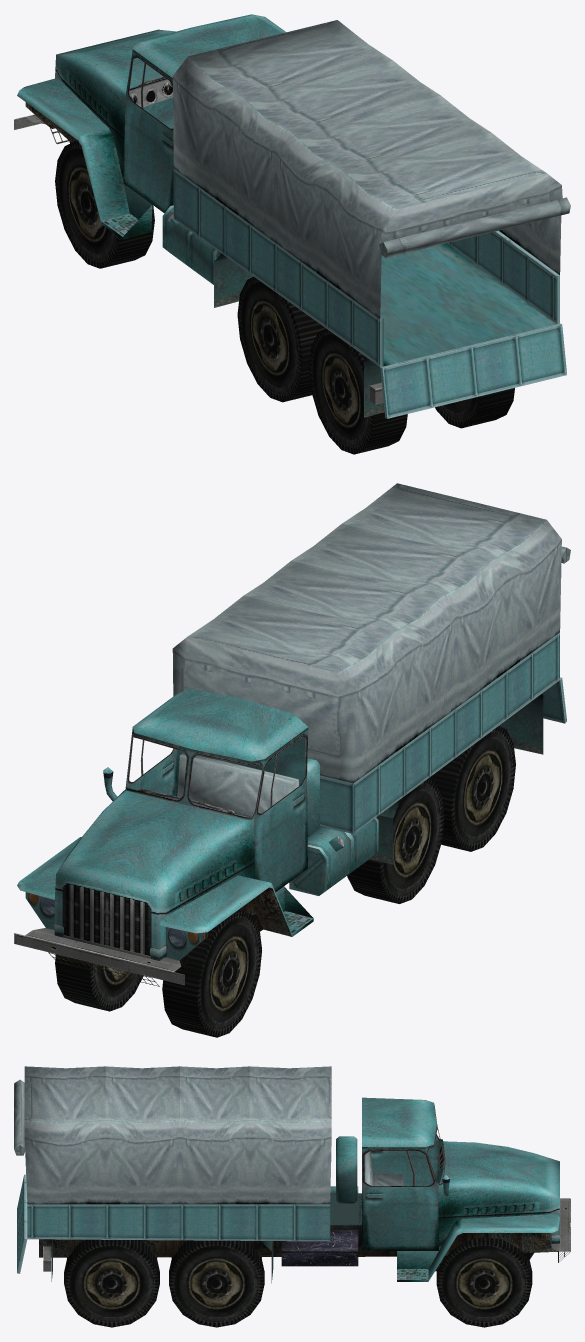
The model's file is CIV_TRUCK.glb.
The picture shows the model from 3 angles, top to bottom: view 1: azimuth 30°, elevation 25°; view 2: azimuth 150°, elevation 25°; view 3: azimuth 270°, elevation 25°; orthographic projection. The views are drawn at different scales.
Visible parts, largest first — view 1: CIV_TRUCK, URAL375_RIGHTWHEEL (×3), URAL375_LEFTWHEEL; view 2: CIV_TRUCK, URAL375_RIGHTWHEEL (×3), URAL375_LEFTWHEEL; view 3: CIV_TRUCK, URAL375_LEFTWHEEL (×3).
Part boxes in pixels (x1,y1,x2,y2): CIV_TRUCK: (14, 14, 570, 418); URAL375_RIGHTWHEEL (×3): (55, 140, 407, 454); URAL375_LEFTWHEEL: (435, 388, 514, 428); CIV_TRUCK: (14, 483, 570, 986); URAL375_RIGHTWHEEL (×3): (162, 726, 515, 1037); URAL375_LEFTWHEEL: (55, 954, 143, 1011); CIV_TRUCK: (14, 1066, 570, 1283); URAL375_LEFTWHEEL (×3): (64, 1237, 532, 1327).
Size of the model in its own units: 2.55 by 3.64 by 8.79.
Materials: 5 (5 with a texture image).
